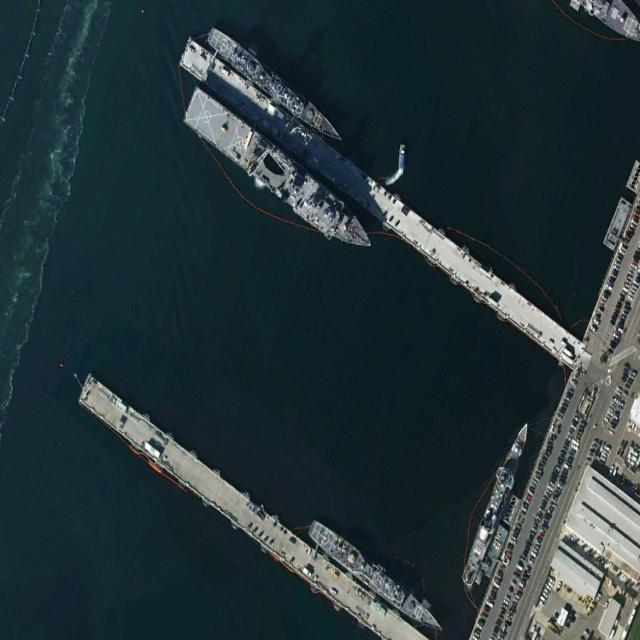Frigate: (306, 514, 448, 639), (204, 23, 345, 148)
Landing: (181, 82, 379, 265)
Other Ship: (456, 415, 535, 591), (398, 144, 407, 170)
